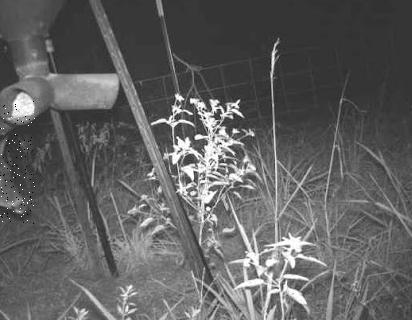Deer: (0, 101, 35, 225)
